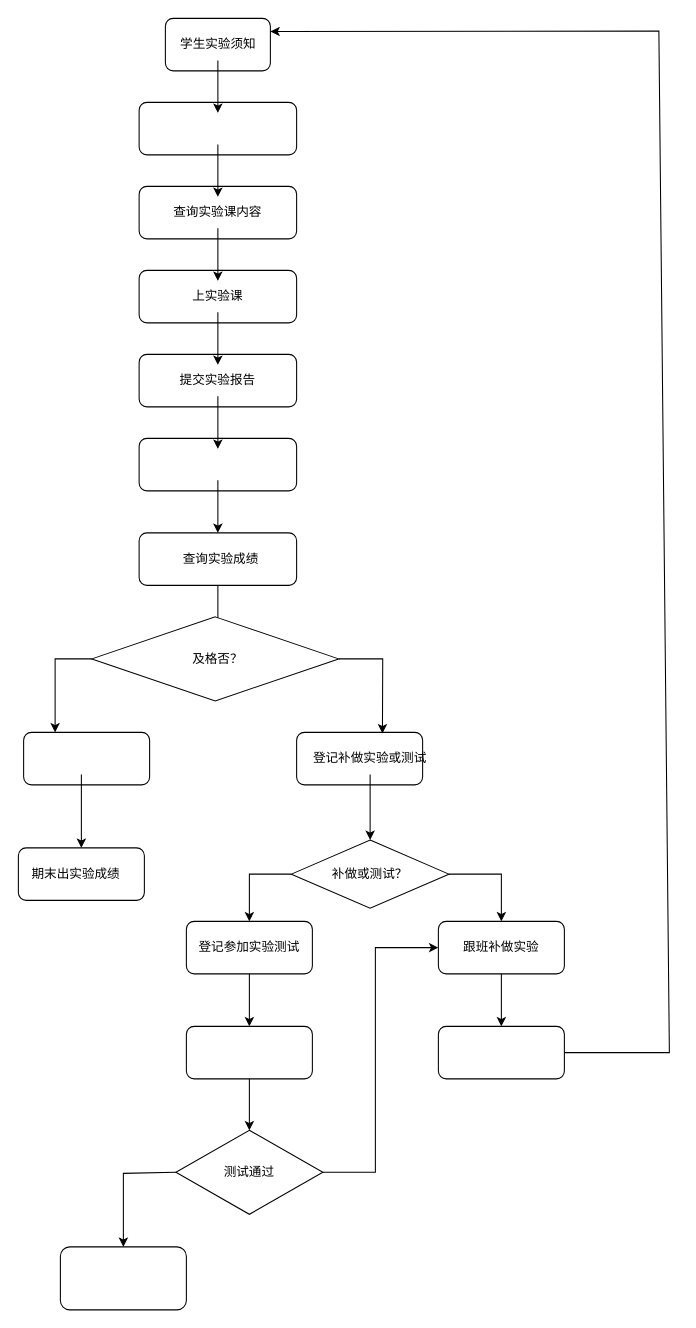
The diagram is 696 pixels wide and 1328 high, and some of its shapes have lost their labels. The centre of each missing label's shape, as x and y in pixels:
"先登记后考试" belongs at [248,1052].
"完成该门课程实验" belongs at [86,758].
"实验课通知" belongs at [217,128].
"提交实验作品" belongs at [217,464].
"期末出成绩" belongs at [122,1278].
"登记通知" belongs at [500,1052].
